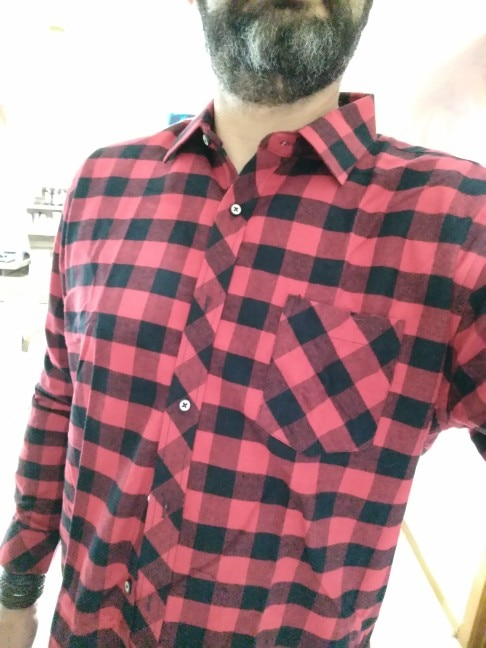shirts: (5, 91, 486, 647)
